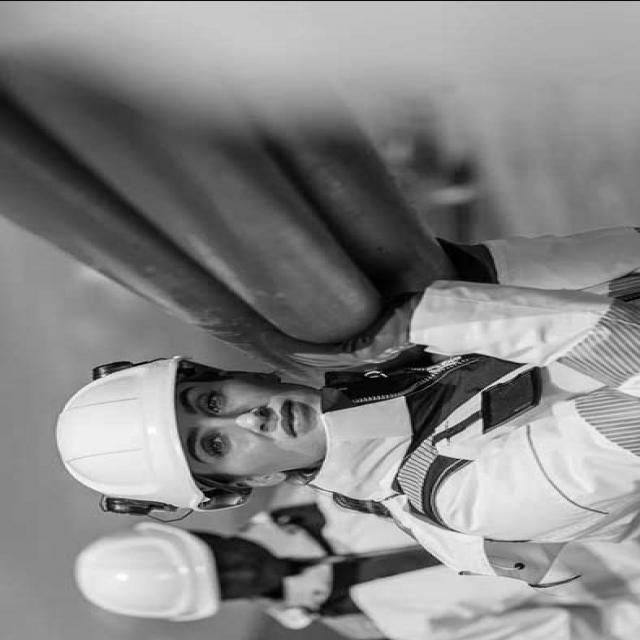construction helmet: (58, 355, 210, 512), (76, 524, 226, 621)
